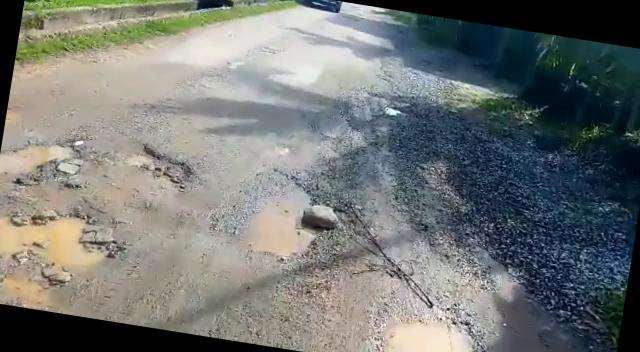pothole: (214, 162, 327, 260), (0, 200, 125, 275), (0, 121, 93, 191), (371, 307, 486, 352), (121, 140, 195, 192)
